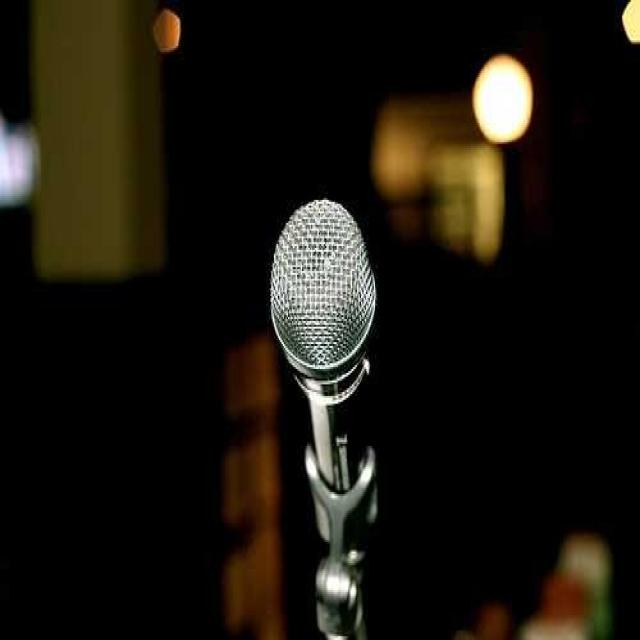microphone: (271, 196, 376, 507)
